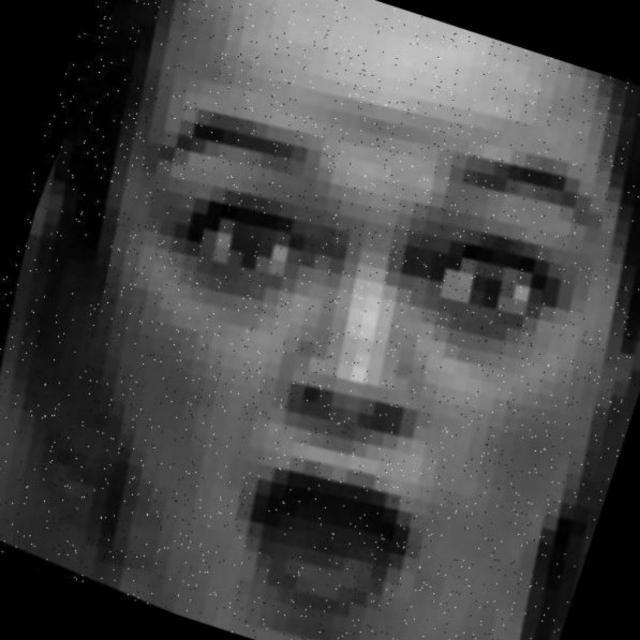surprised: (62, 49, 640, 640)
